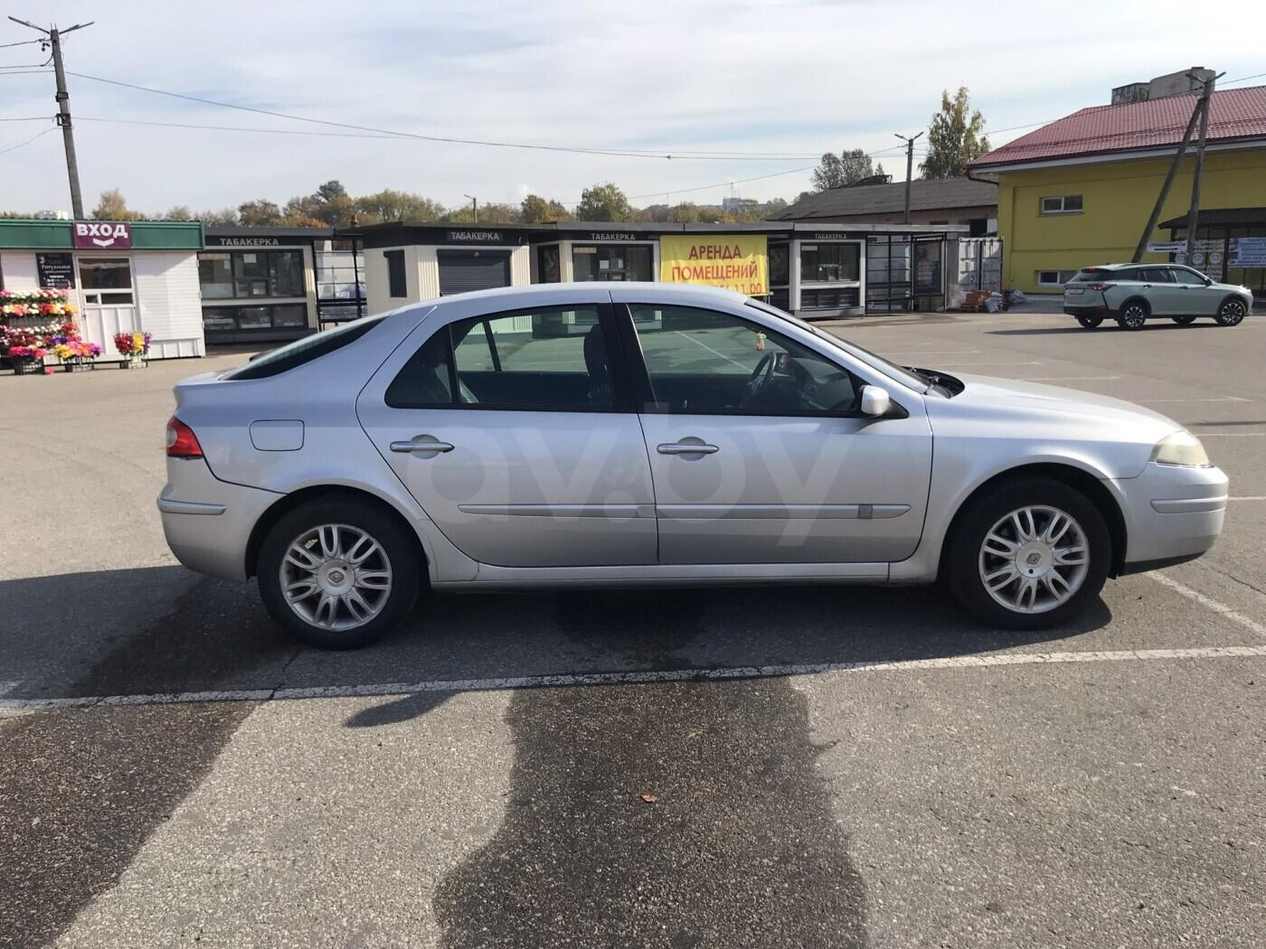Laguna_2005-2007: (151, 279, 1239, 655)
